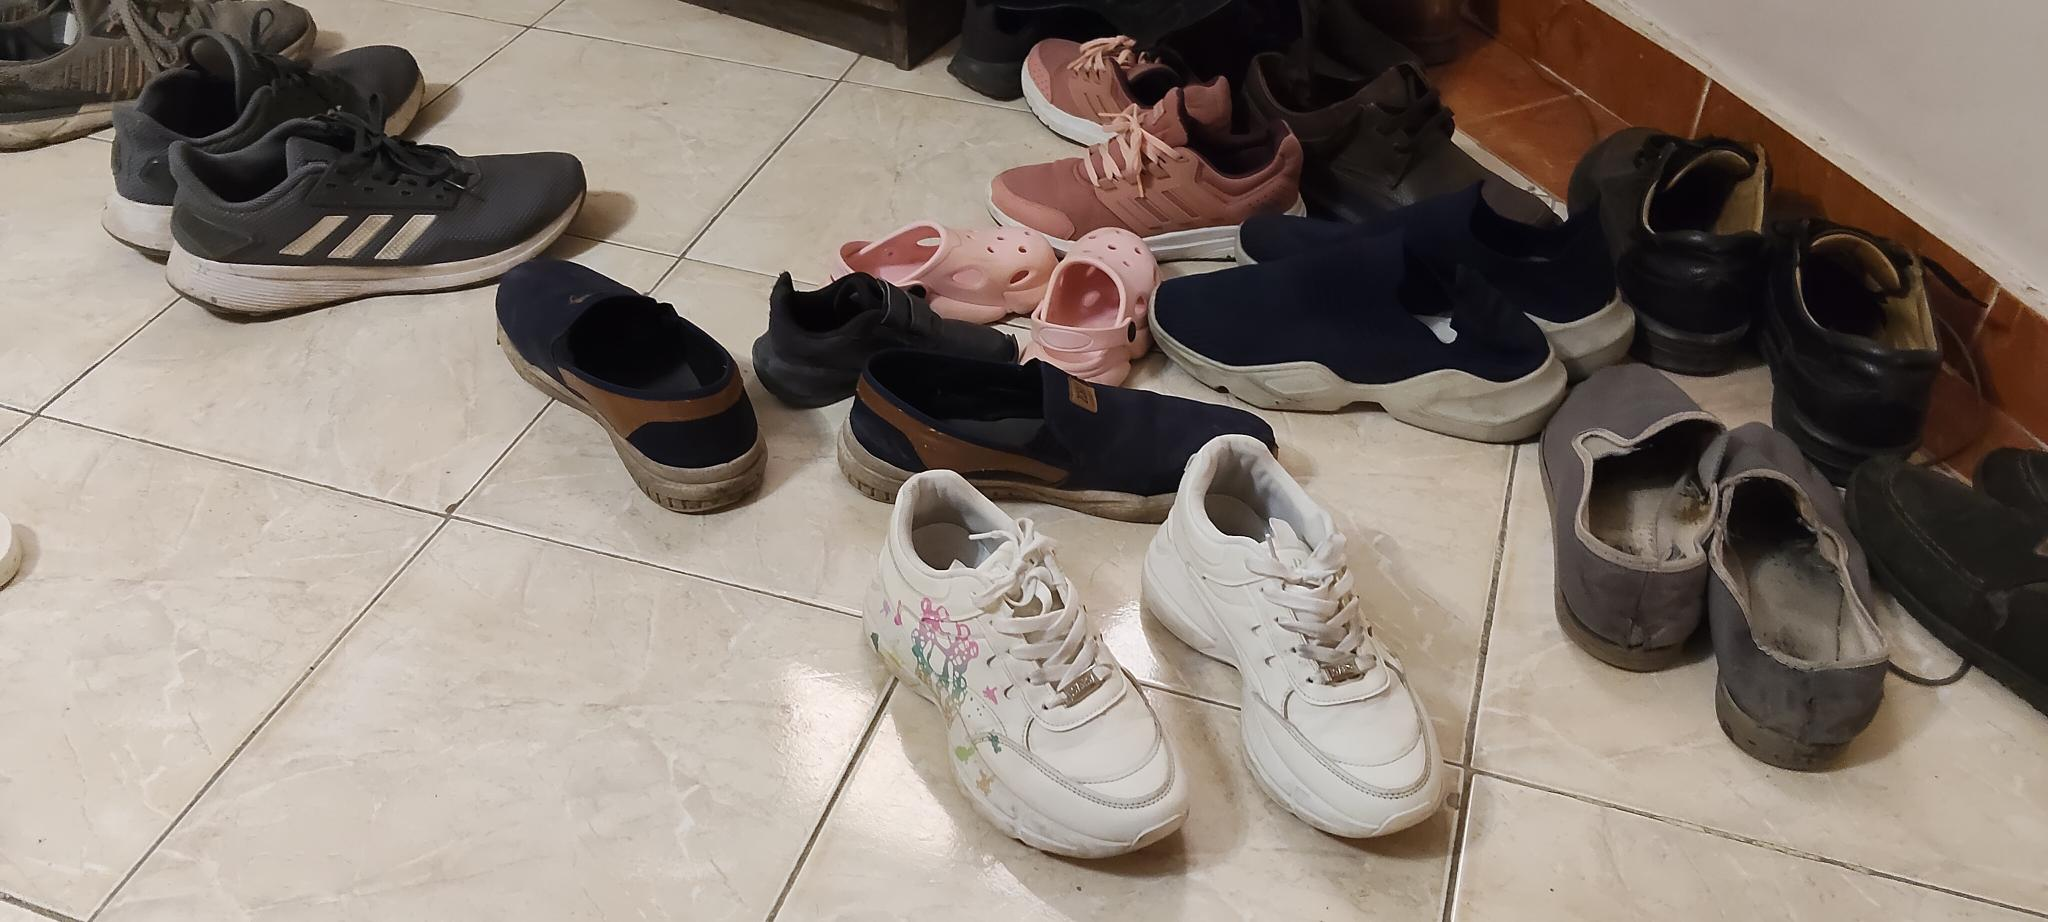Shoes: (867, 469, 1193, 859), (1143, 432, 1447, 837), (1153, 243, 1567, 444), (837, 339, 1280, 524), (165, 134, 587, 317), (102, 45, 425, 262), (496, 254, 768, 511), (1698, 421, 1895, 762), (1237, 205, 1638, 367), (1542, 363, 1728, 671), (985, 89, 1308, 261), (1843, 461, 2048, 724), (1568, 125, 1781, 377), (0, 0, 317, 149), (1773, 195, 1941, 477), (752, 273, 1012, 409), (1022, 36, 1231, 147), (1025, 226, 1165, 392), (838, 222, 1058, 322), (1975, 445, 2048, 537)
